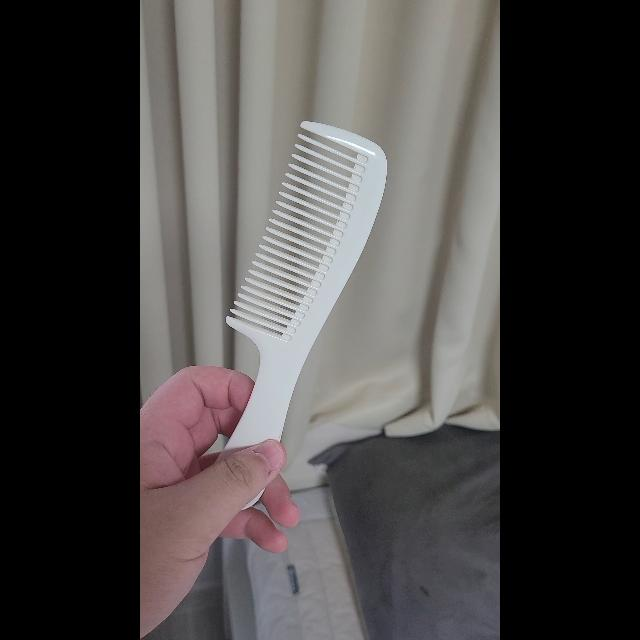COMB: (216, 122, 388, 510)
